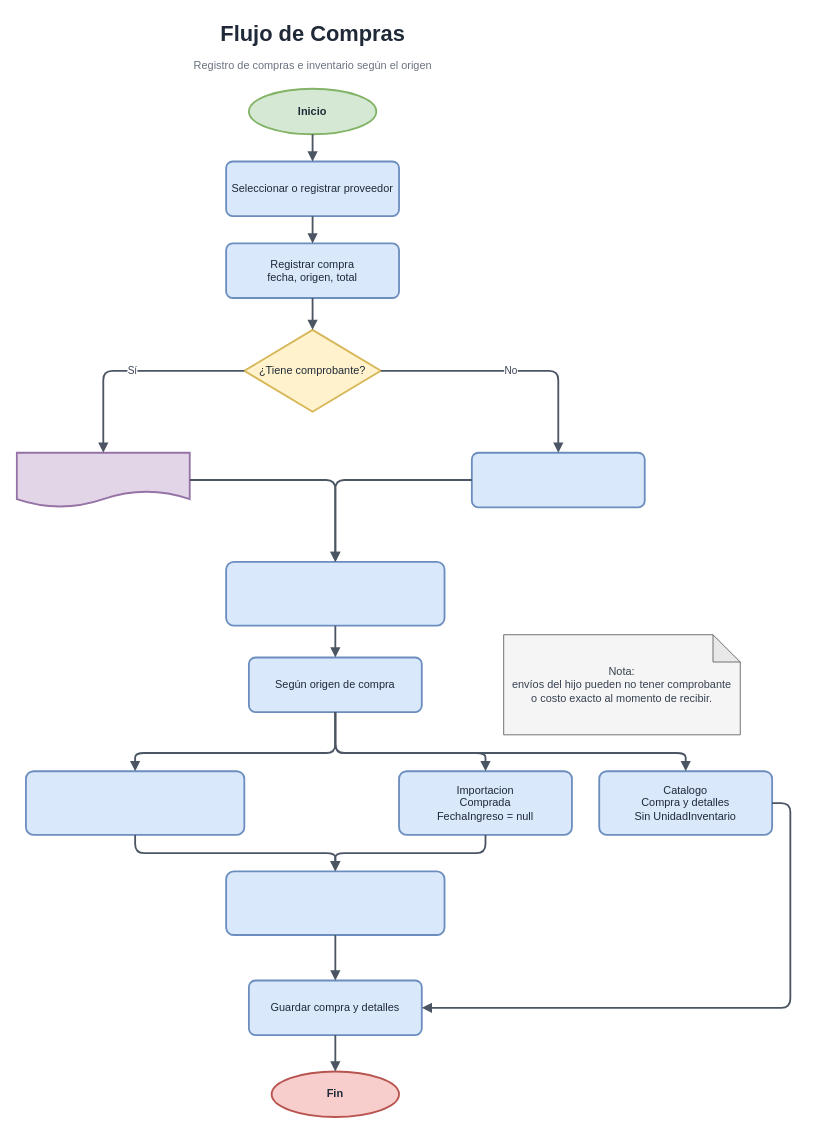
This 814x1133 diagram has some shape labels left out. The shapes that lost their labels are listed below. From the top down, each one's centre as x and y in pixels, then its label:
the point at 102,479: Adjuntar comprobante de compra
the point at 557,479: Continuar sin comprobante
the point at 335,593: Agregar detalles de compra producto, cantidad, costo
the point at 135,802: CompraLocal / EnvioHermano Disponible FechaIngreso obligatoria
the point at 335,902: Crear unidades según cantidad con el estado y fecha indicados
